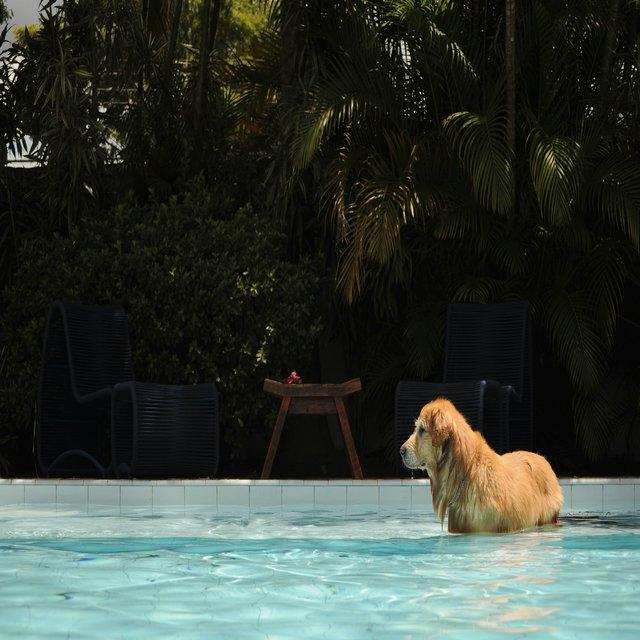retriever: (400, 396, 565, 534)
